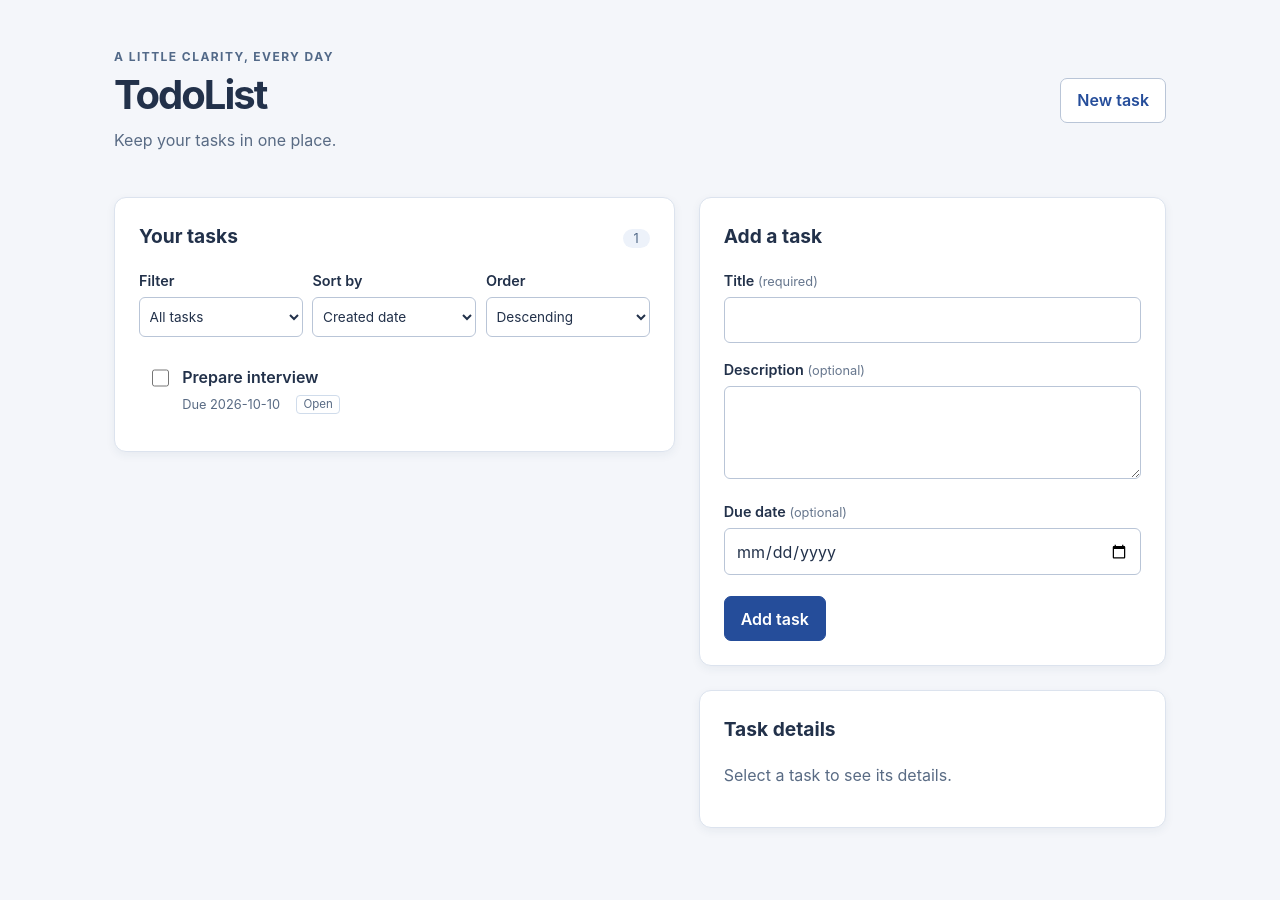
Test: task workflow › ignores an older query response that finishes after the selected filter response
This screenshot has width=1280, height=900.
Expected: the checkbox is shown, top-left (152, 369), bottom-right (169, 387)
Select "Incomplete" in the dropdown labelled "Filter": (221, 317) top-left (139, 297), bottom-right (303, 337)
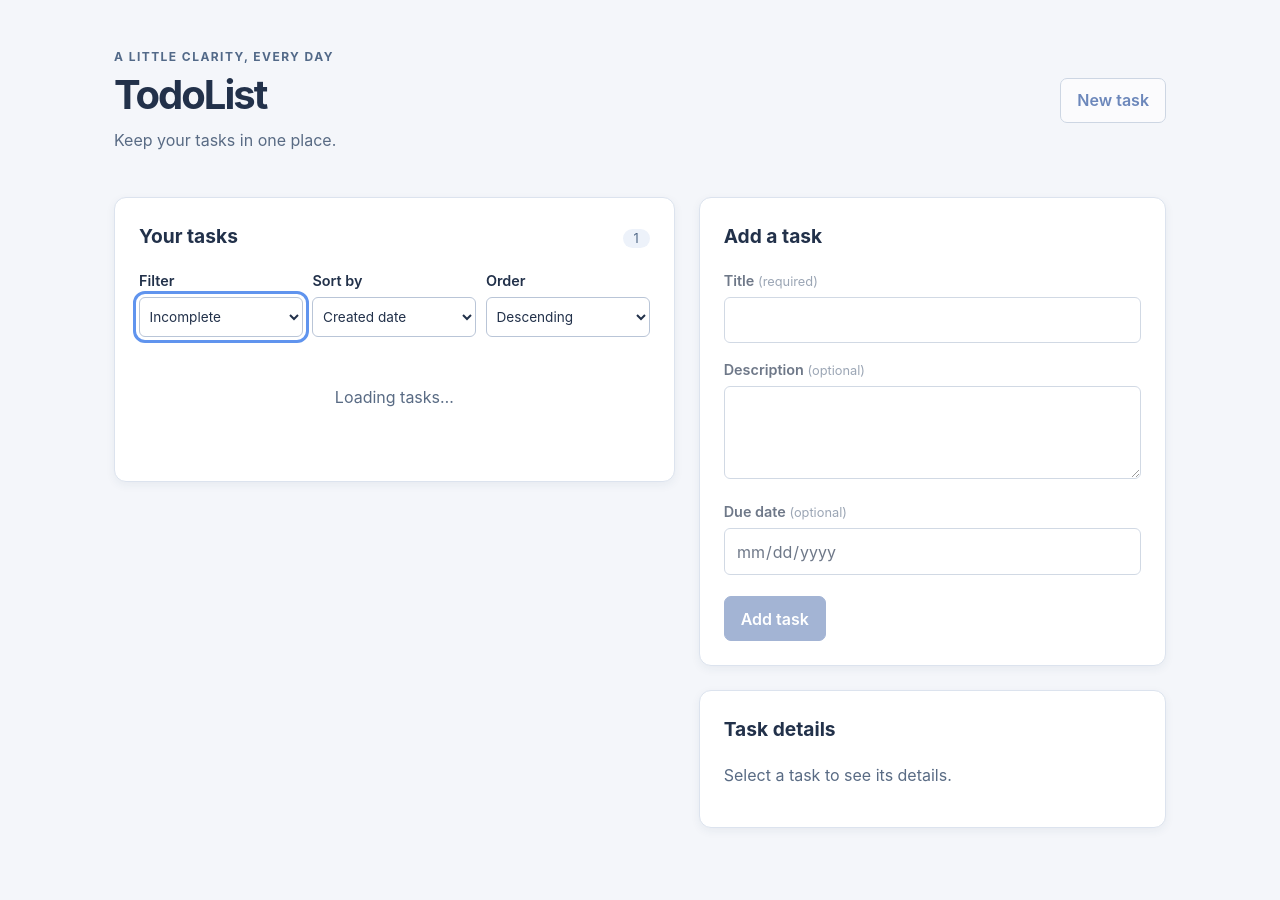
Select "Completed" in the dropdown labelled "Filter": (221, 317) top-left (139, 297), bottom-right (303, 337)
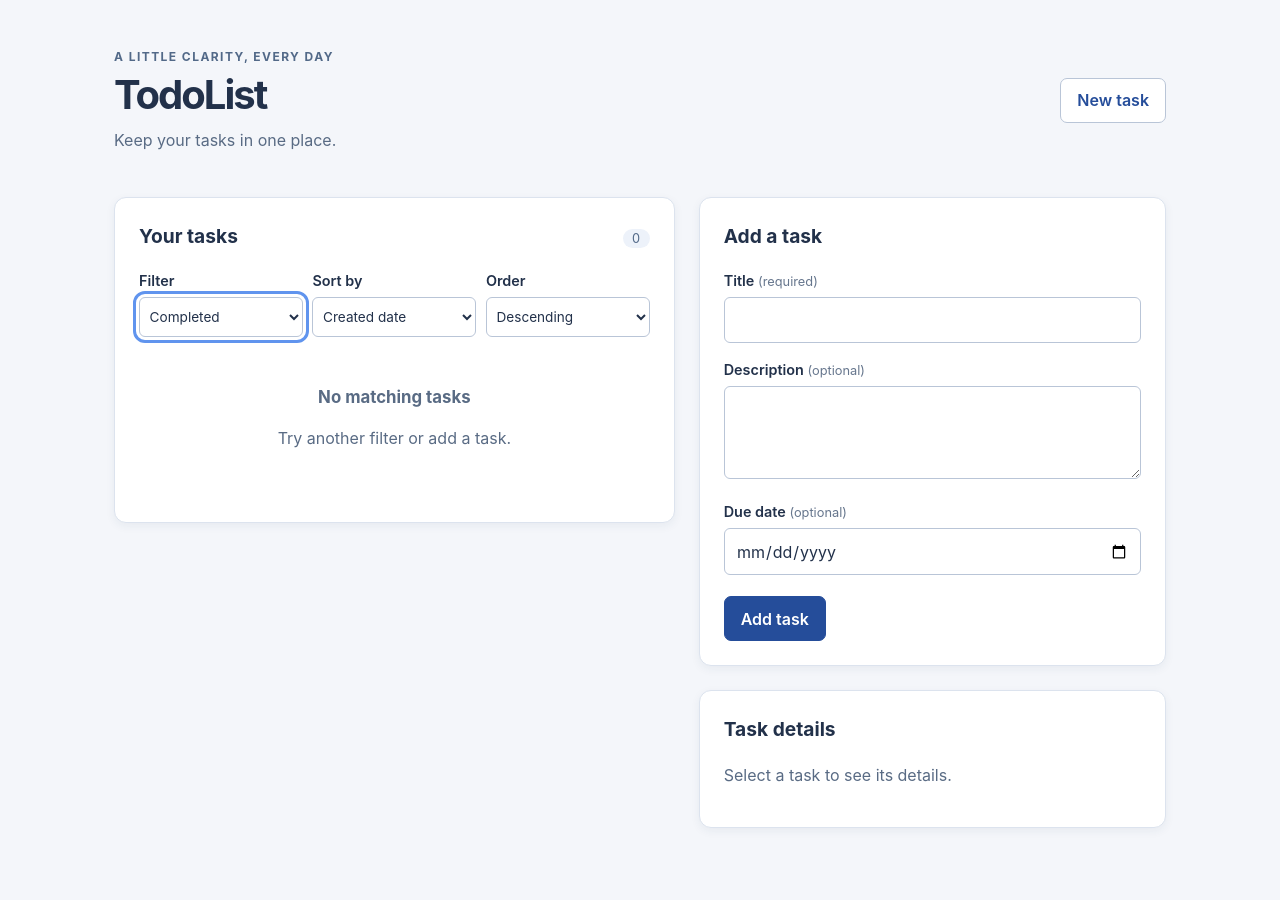
Now the heading "No matching tasks" is shown, box top-left (318, 387), bottom-right (471, 407)
